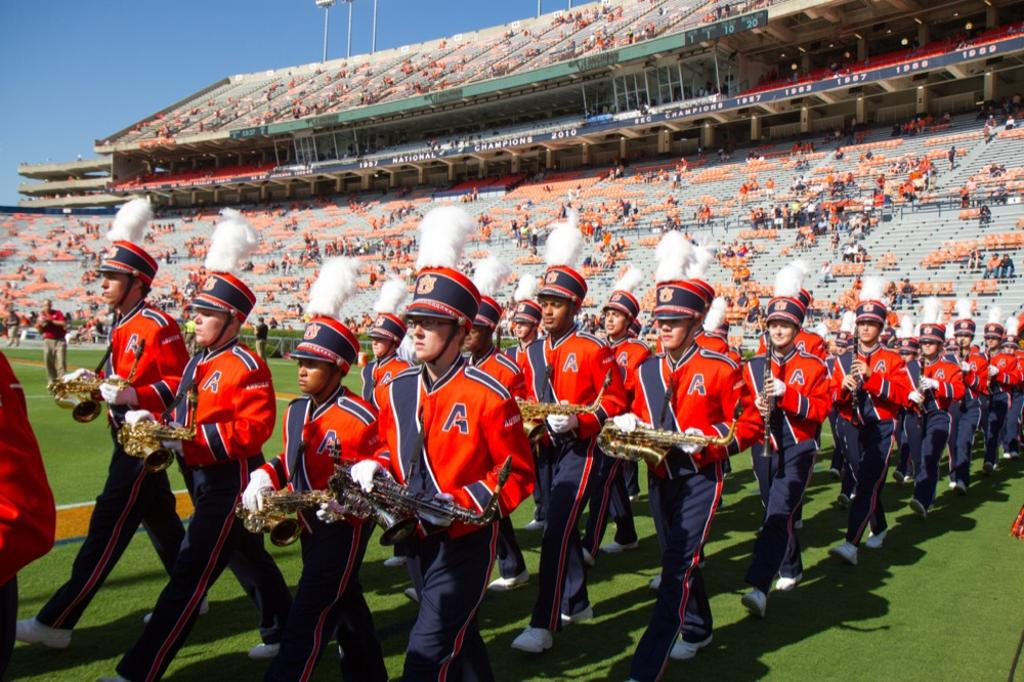face: (413, 307, 457, 360), (298, 349, 336, 392), (195, 301, 233, 344), (101, 267, 133, 303), (542, 296, 573, 329), (462, 319, 488, 348), (770, 317, 795, 346), (606, 305, 627, 333), (858, 316, 879, 342), (373, 331, 392, 355), (516, 315, 533, 337), (922, 337, 938, 356), (901, 346, 915, 364), (957, 331, 972, 347), (836, 340, 849, 355), (987, 333, 999, 348), (1004, 341, 1016, 356)
